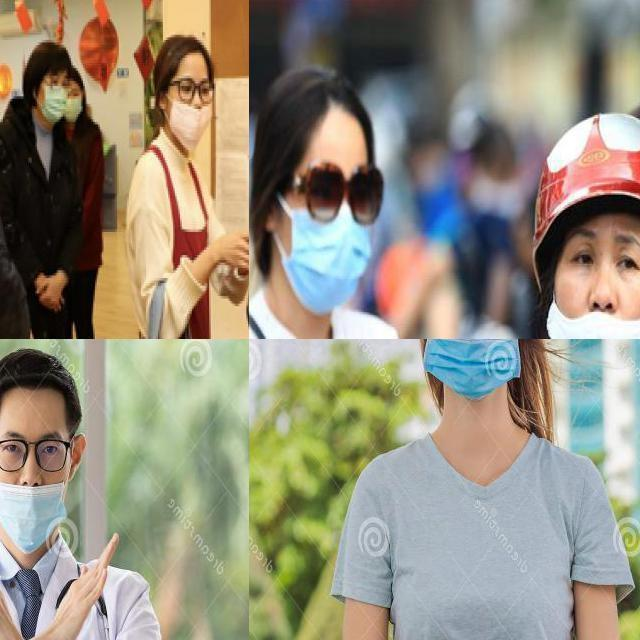hairnet: (0, 461, 68, 549), (549, 276, 639, 338), (172, 95, 211, 145)
